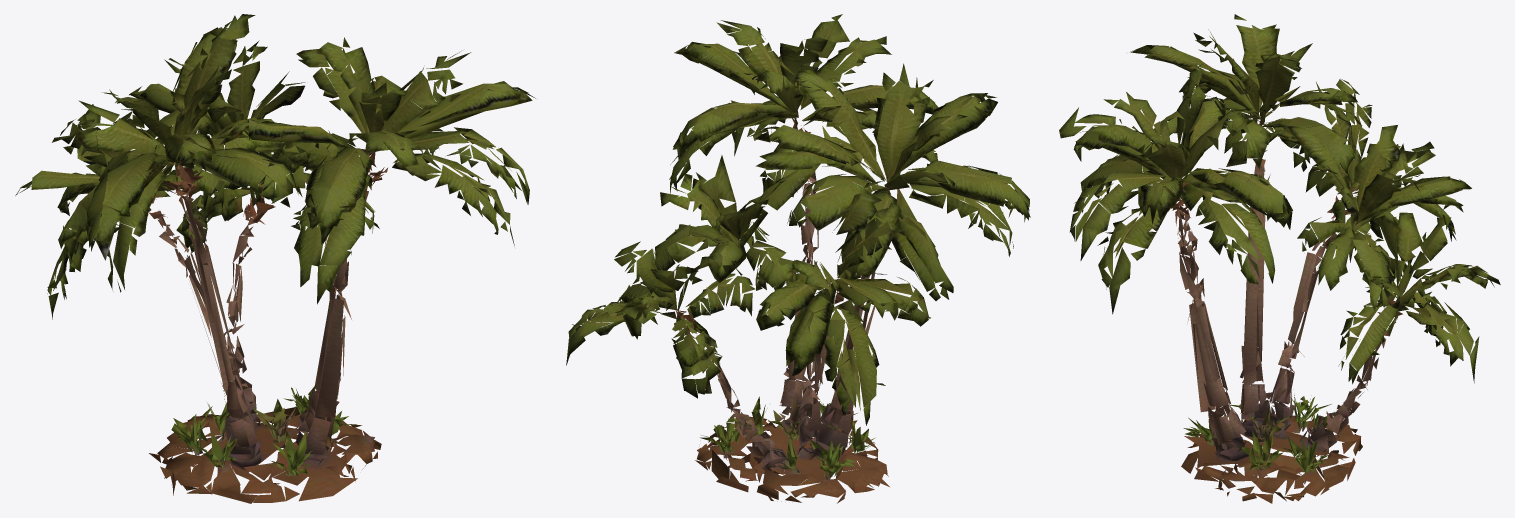
The model's file is jun_leaning_palm_cluster_LOD2.glb.
3 views of the same model, side by side, from view 1: azimuth 30°, elevation 25°; view 2: azimuth 150°, elevation 25°; view 3: azimuth 270°, elevation 25° (orthographic). The views are drawn at different scales.
Visible parts, largest first — view 1: tripo_node_82022841-fae1-4120-8960-4bbcf65c6de9; view 2: tripo_node_82022841-fae1-4120-8960-4bbcf65c6de9; view 3: tripo_node_82022841-fae1-4120-8960-4bbcf65c6de9.
Part boxes in pixels (x1,y1,x2,y2): tripo_node_82022841-fae1-4120-8960-4bbcf65c6de9: [15, 14, 535, 503]; tripo_node_82022841-fae1-4120-8960-4bbcf65c6de9: [566, 14, 1030, 503]; tripo_node_82022841-fae1-4120-8960-4bbcf65c6de9: [1059, 14, 1500, 503].
Bounding box in the file's own units: 0.9868 × 1.01 × 0.9978.
1 material, 1 textured.
